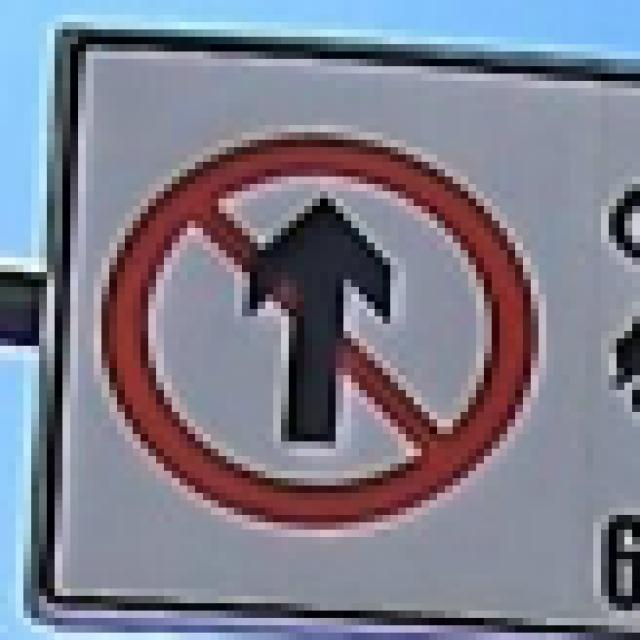Not that Direction: (91, 115, 560, 518)
